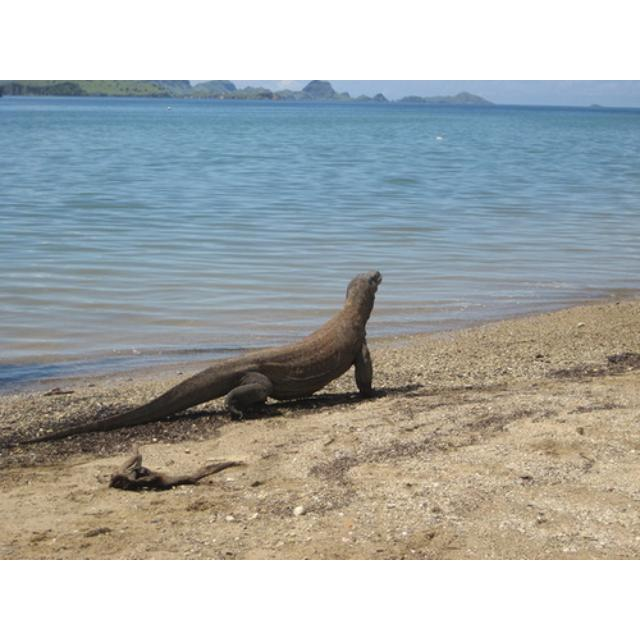KomodoDragon: (17, 267, 381, 446)
